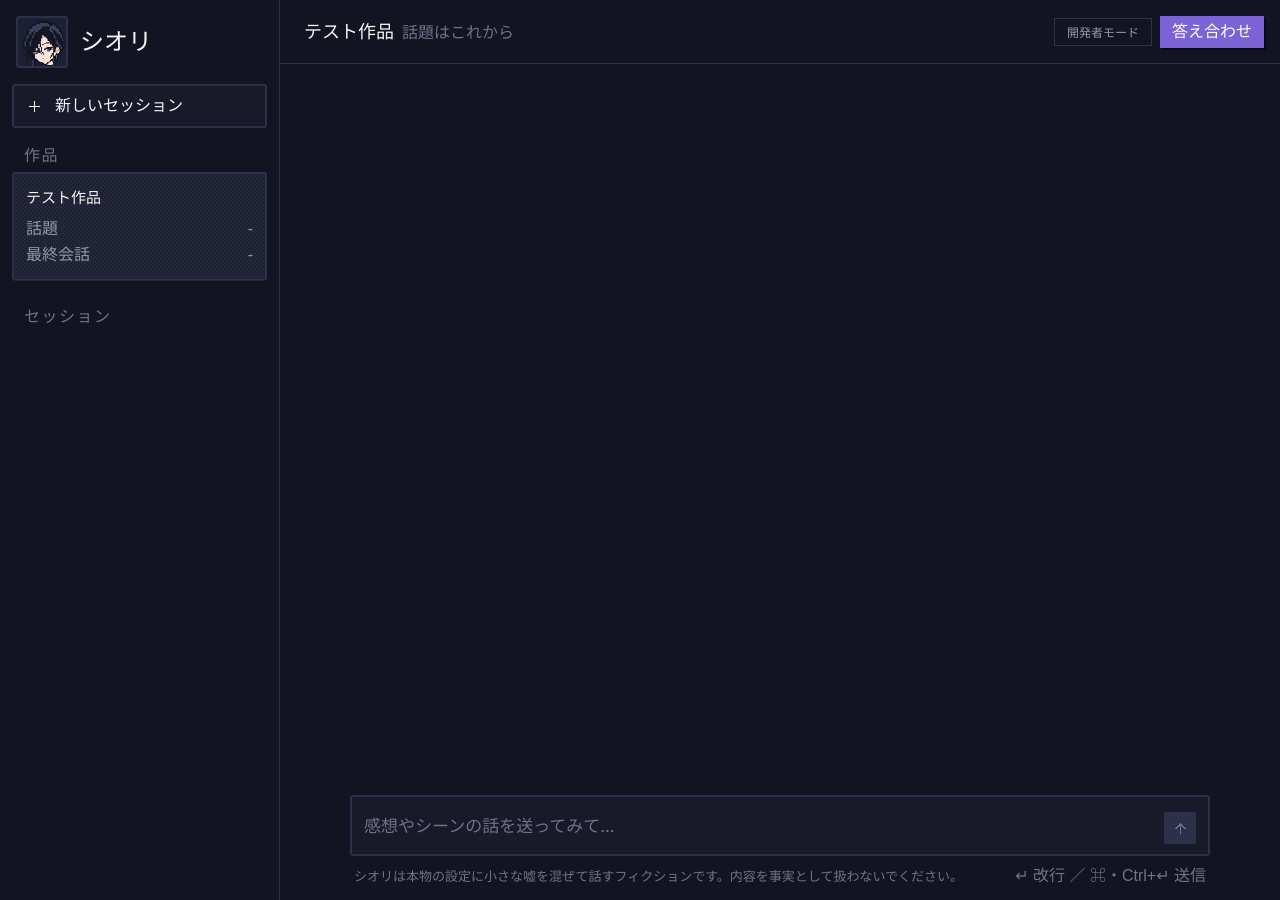
Scenario: ChatApp: 1回の送信で複数の吹き出しを積む › シオリの吹き出しの後にとしおの吹き出しが別に増える。としおの名前の横に「考察」の印は付けない
Step 1. Type "これって伏線じゃない？" into the text box with placeholder "感想やシーンの話を送ってみて..." → (760, 826), box [364,805,1156,846]
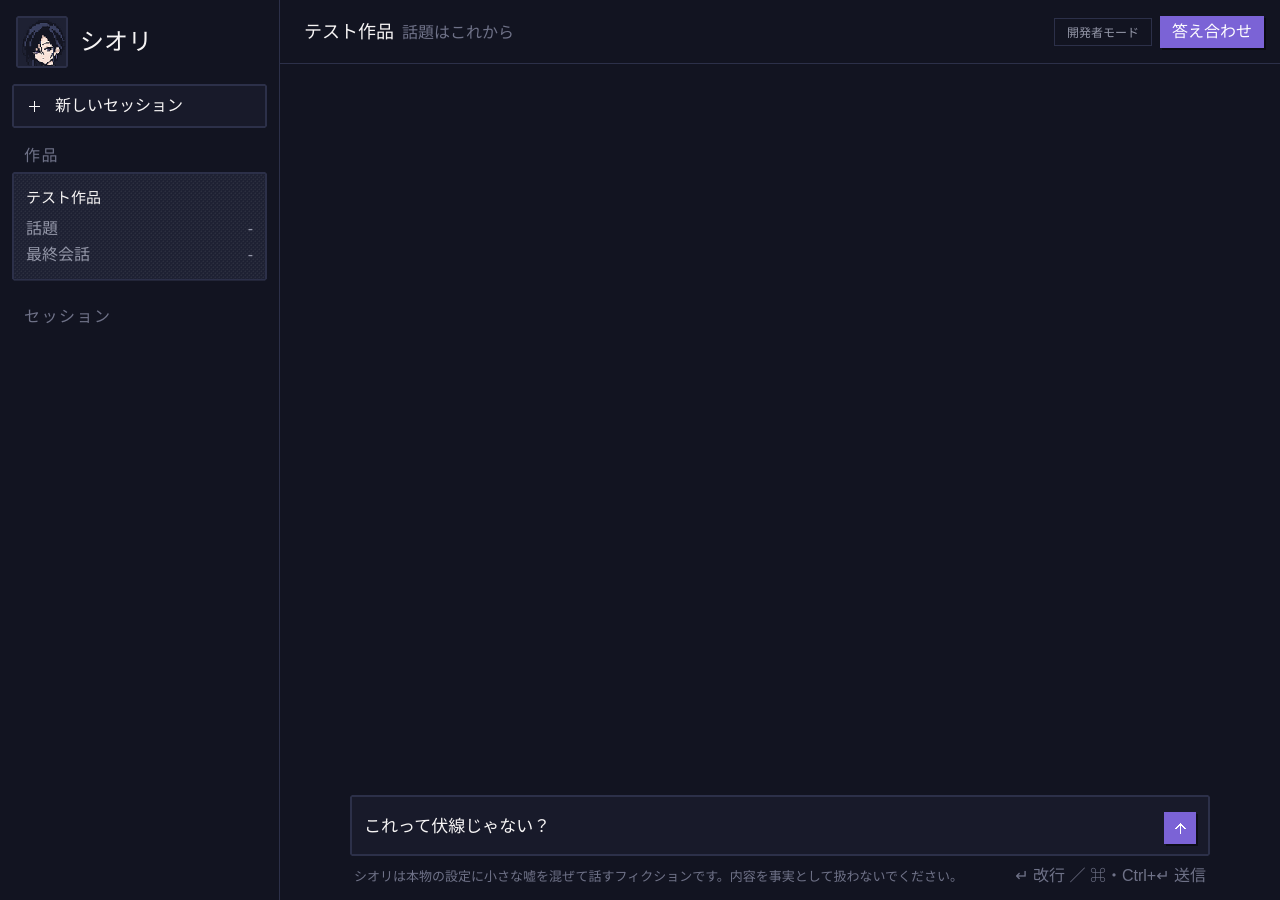
Step 2. Click the button named "送信" → (1180, 828), box [1164,812,1196,844]
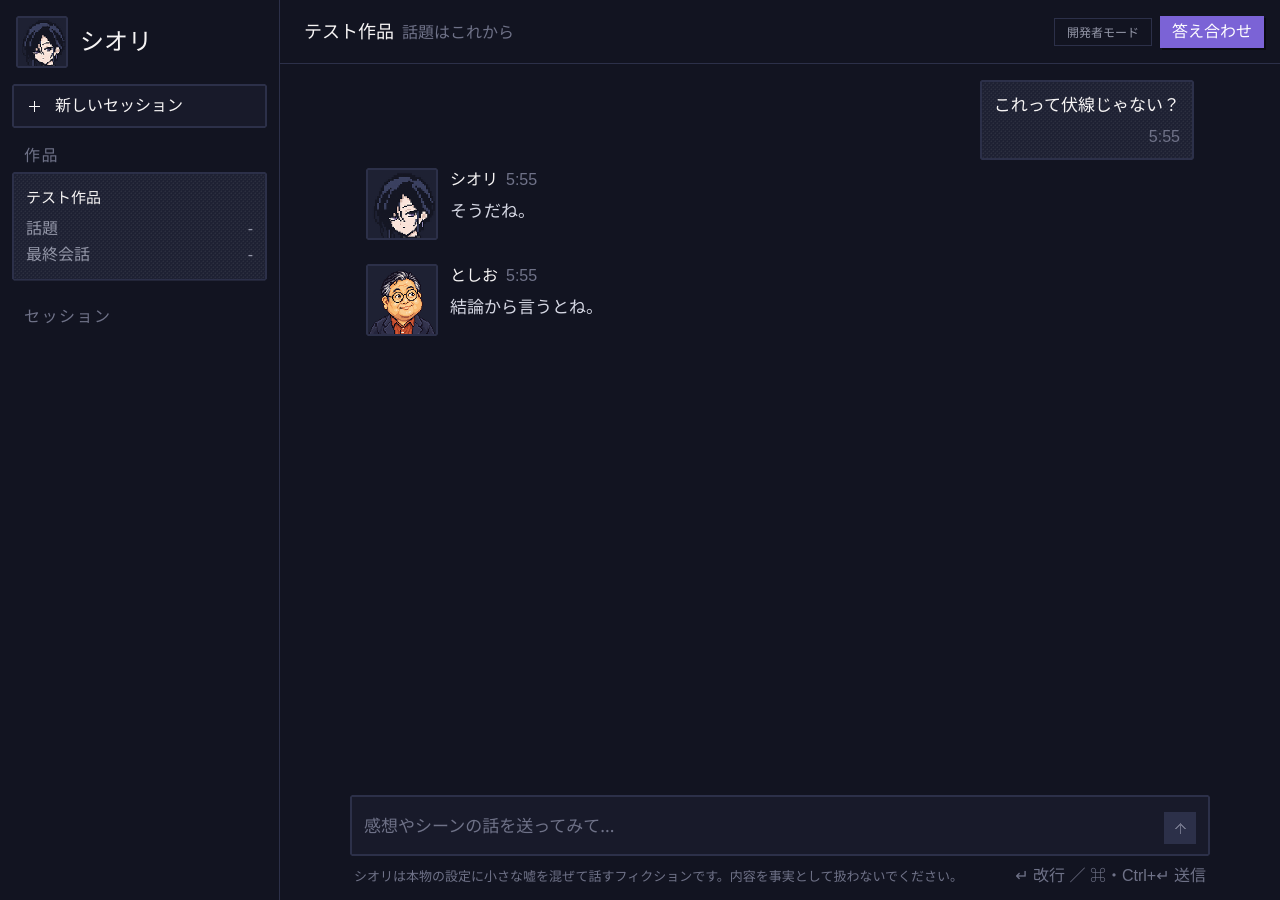
expect the text "シオリ" below "話題はこれから" is shown: met, box [450,171,498,188]
expect the text "そうだね。" is shown: met, box [450,197,535,222]
expect the text "としお" is shown: met, box [450,264,498,288]
